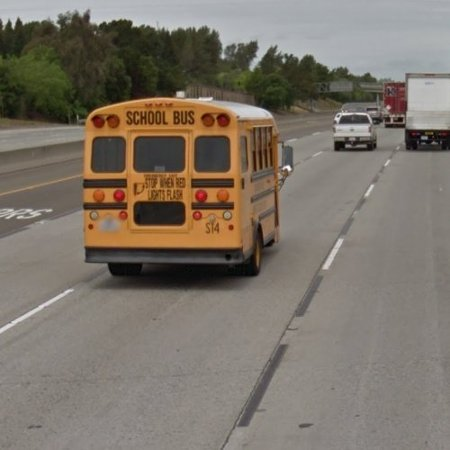汽車: (189, 213, 265, 282), (273, 204, 333, 257), (121, 210, 188, 250), (3, 216, 57, 243)
紅綠燈: (267, 153, 286, 180), (124, 159, 144, 182), (415, 184, 434, 204)
行人穿越道: (259, 253, 409, 274), (39, 253, 189, 272)
